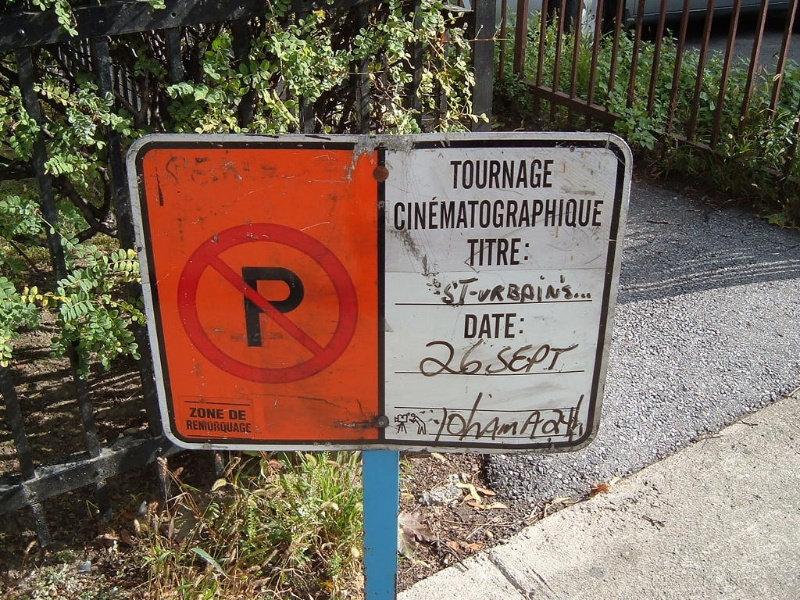no_parking: (171, 217, 365, 388)
